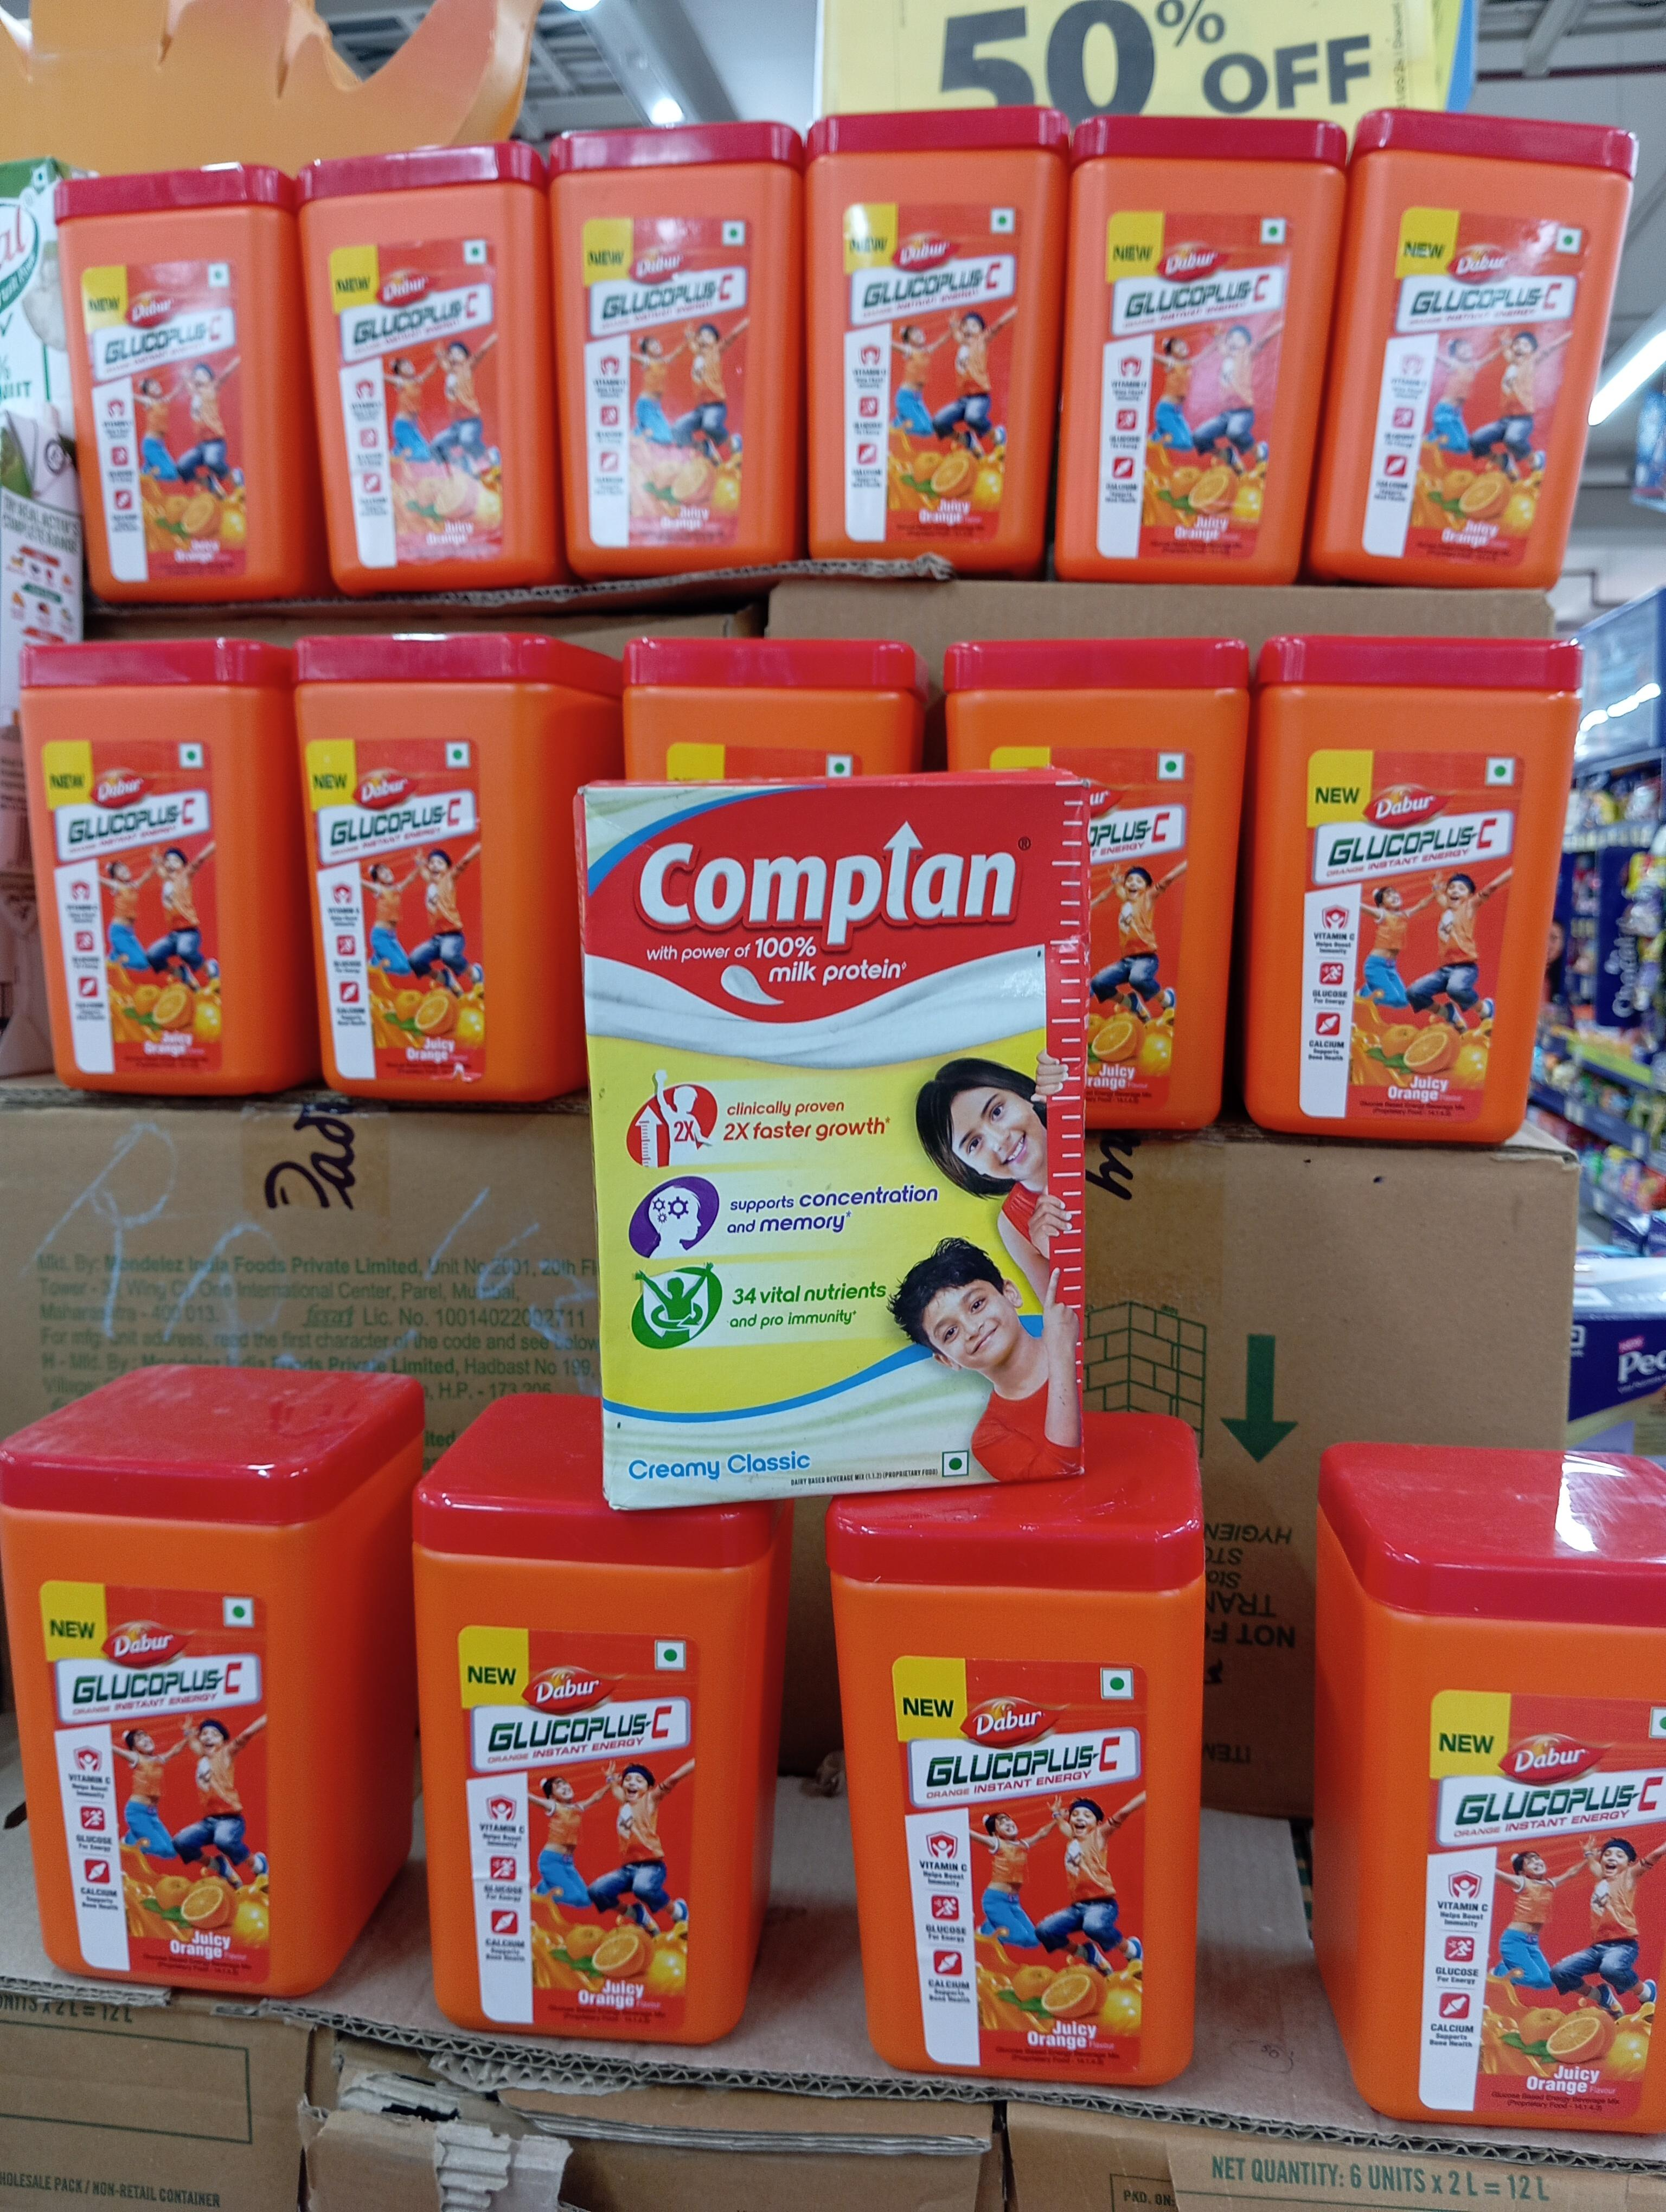COMPLAN_CREAMY_CLASSIC_500_G_PACK: (591, 776, 1083, 1488)
